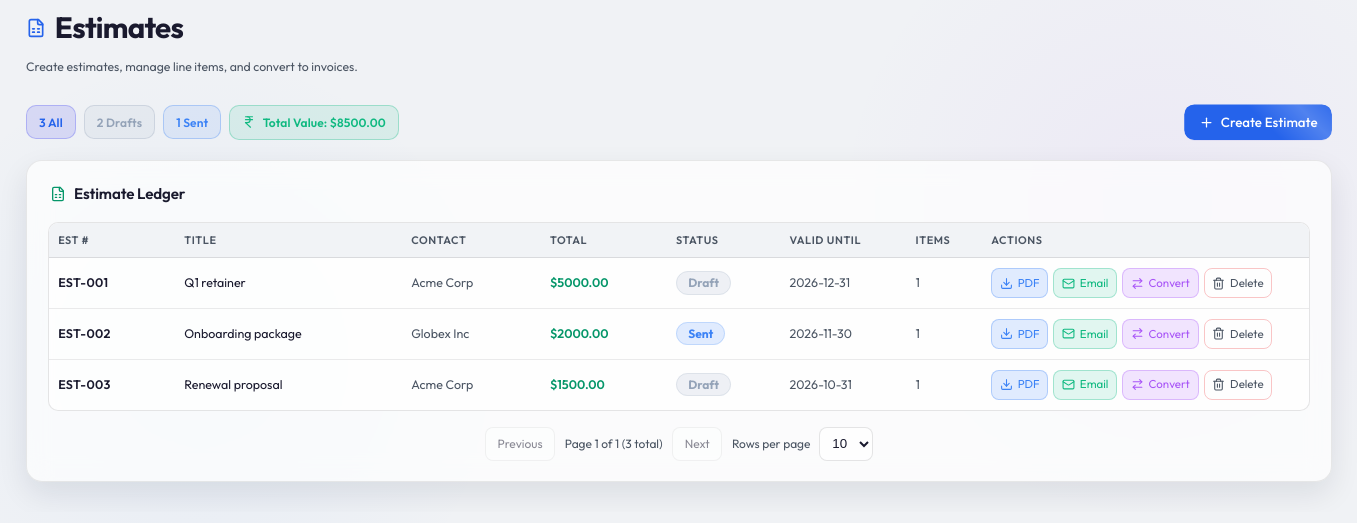
Test: <Estimates /> — page surface › clicking the "Drafts" pill filters the ledger to Draft rows only
Expected: the text "EST-001" is shown, x1=48 y1=258 x2=175 y2=309
// 2 drafts (EST-001, EST-003), 1 sent (EST-002).
Click the button "2 Drafts": click(120, 122) x1=84 y1=105 x2=155 y2=139
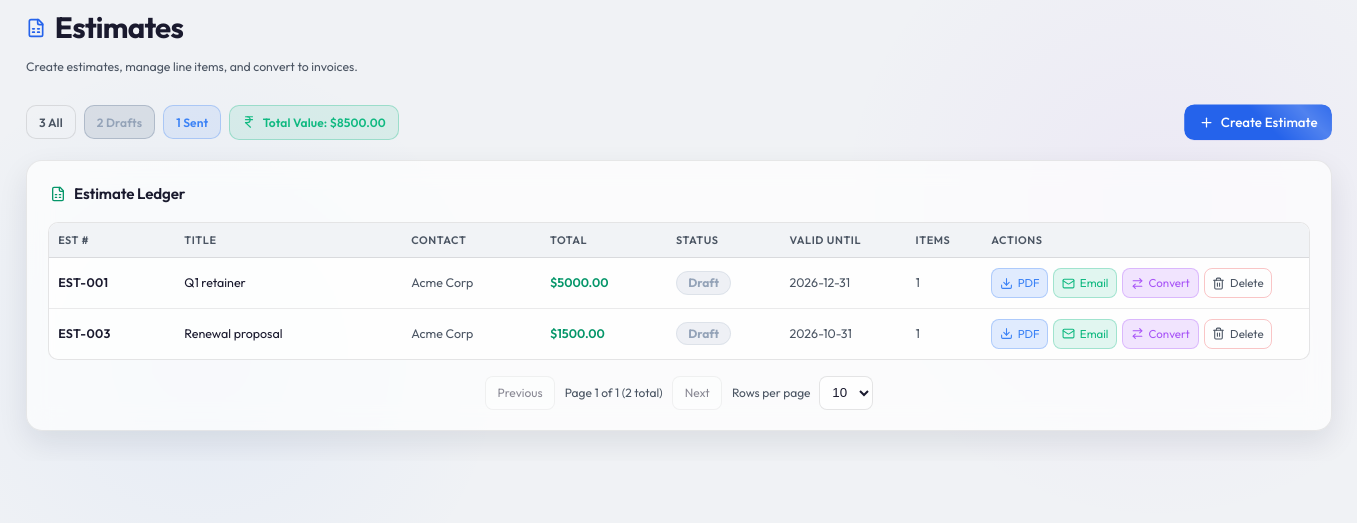
Expected: the text "EST-001" is shown, x1=48 y1=258 x2=175 y2=309
Result: the text "EST-002" is gone
